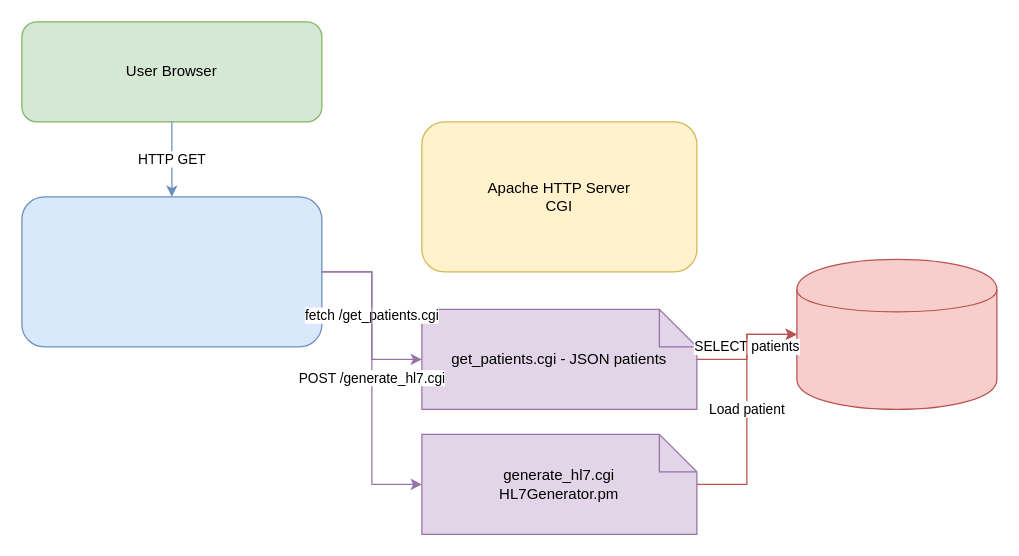
This 1019x556 diagram has some shape labels left out. Here are the shapes that lost their labels. From the top down, the centre of each, then its label:
[171,271]: SPA (HTML/CSS/JS) index.html, main.js, styles.css
[896,333]: PostgreSQL patients table
